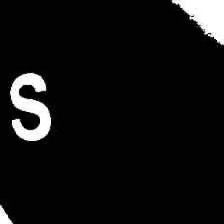LTR_S: (4, 66, 55, 144)
